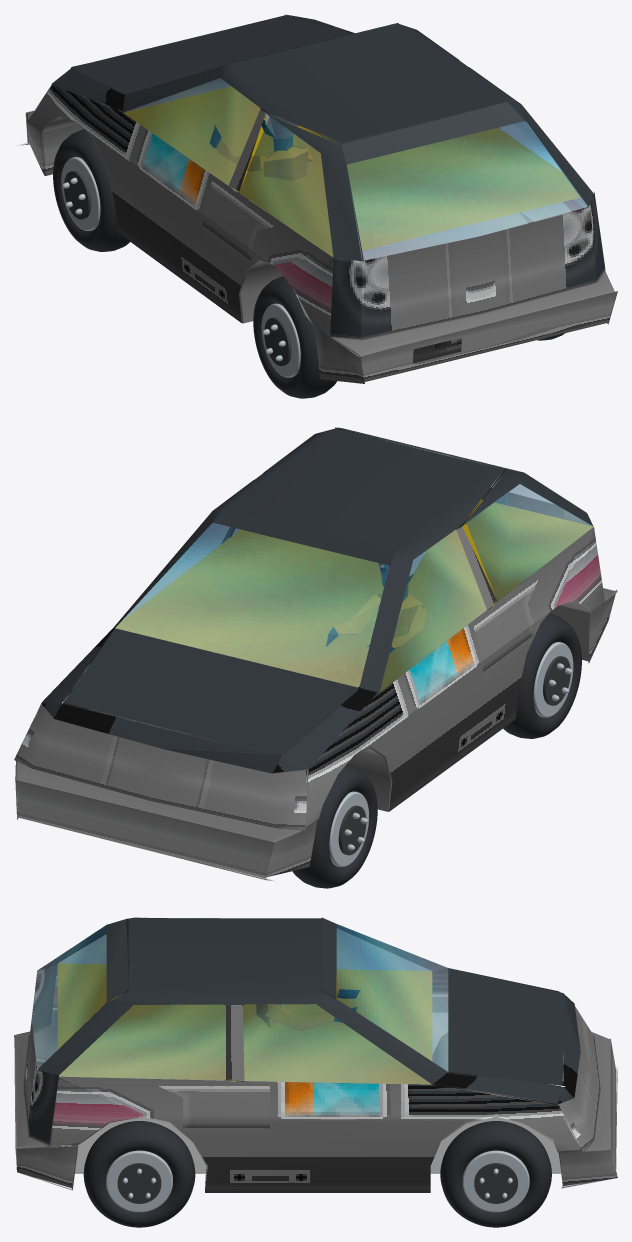
Rendered from car-compacta.glb.
3 views of the same model, one above another, from view 1: azimuth 30°, elevation 25°; view 2: azimuth 150°, elevation 25°; view 3: azimuth 270°, elevation 25° (orthographic). The views are drawn at different scales.
Visible parts, largest first — view 1: compactAShape.001, windShape.001, compactAShape, Rounded tire.013, Rounded tire.014, Alloy rim.013, Alloy rim.014, Rim recess.026, Rim recess.028; view 2: compactAShape.001, windShape.001, compactAShape, Rounded tire.014, Rounded tire.013, Alloy rim.014, Alloy rim.013, Rim recess.028, Rim recess.026; view 3: compactAShape.001, windShape.001, compactAShape, Rounded tire.015, Rounded tire.012, Alloy rim.015, Alloy rim.012, Rim recess.025, Rim recess.031.
Boxes of the visible parts, x1,y1,x2,y2 form: compactAShape.001: (15,14,617,383); windShape.001: (124,78,587,261); compactAShape: (124,86,579,256); Rounded tire.013: (253,276,336,398); Rounded tire.014: (53,129,129,251); Alloy rim.013: (261,303,300,377); Alloy rim.014: (61,157,100,230); Rim recess.026: (264,317,291,365); Rim recess.028: (64,170,91,219); compactAShape.001: (14,427,617,881); windShape.001: (115,440,593,691); compactAShape: (116,499,592,691); Rounded tire.014: (292,763,377,888); Rounded tire.013: (503,613,581,738); Alloy rim.014: (329,791,368,867); Alloy rim.013: (533,642,573,717); Rim recess.028: (338,805,366,855); Rim recess.026: (543,656,570,705); compactAShape.001: (14,917,617,1192); windShape.001: (32,917,448,1084); compactAShape: (57,963,431,1084); Rounded tire.015: (440,1121,551,1227); Rounded tire.012: (83,1121,195,1227); Alloy rim.015: (462,1150,529,1212); Alloy rim.012: (106,1150,172,1212); Rim recess.025: (117,1163,161,1203); Rim recess.031: (474,1163,517,1203).
Bounding box in the file's own units: 2.29 × 1.83 × 4.57.
Materials: 6 (3 with a texture image).
